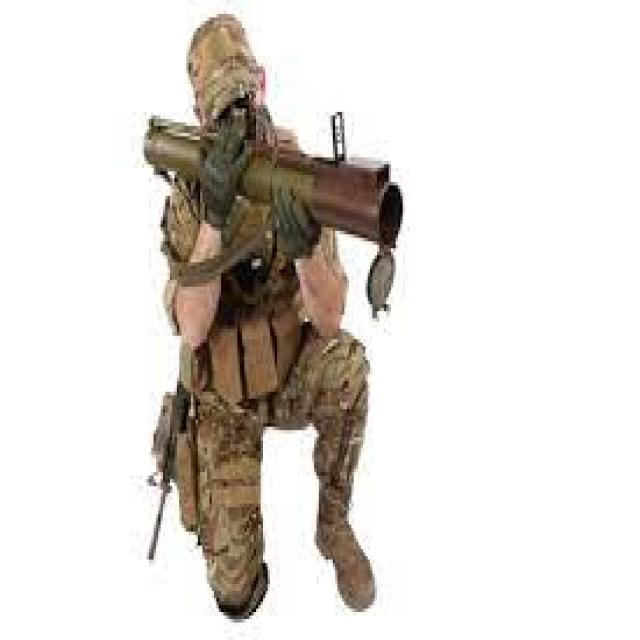bazooka: (127, 83, 440, 320)
